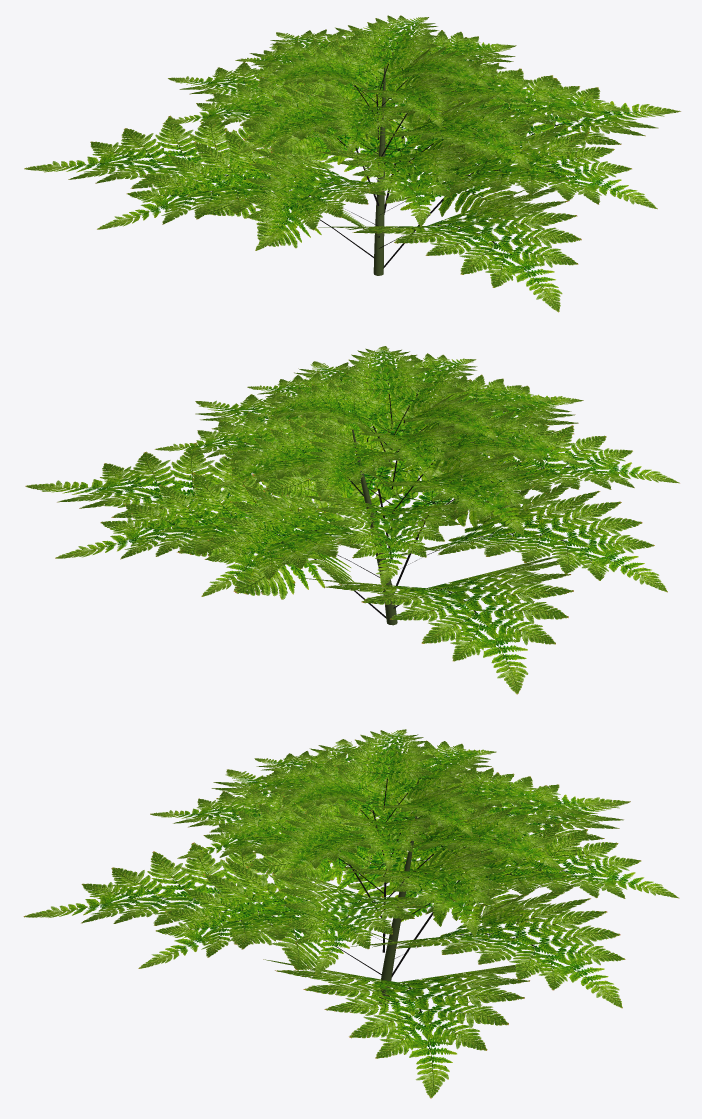
File: Plant2.fbx
3 renders of one model, top to bottom at view 1: azimuth 30°, elevation 25°; view 2: azimuth 150°, elevation 25°; view 3: azimuth 270°, elevation 25°, orthographic. The views are drawn at different scales.
Parts seen in each view (by area): view 1: Fern, Stem.002; view 2: Fern, Stem.002; view 3: Fern, Stem.002.
Boxes of the visible parts, box(x1,y1,x2,y2) form: Fern: box(24, 15, 680, 312); Stem.002: box(373, 67, 385, 275); Fern: box(25, 346, 679, 694); Stem.002: box(352, 429, 397, 625); Fern: box(23, 729, 679, 1098); Stem.002: box(378, 816, 417, 1003).
Bounding box in the file's own units: 1120 × 388 × 1021.
